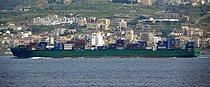Ship: (7, 30, 202, 62)
